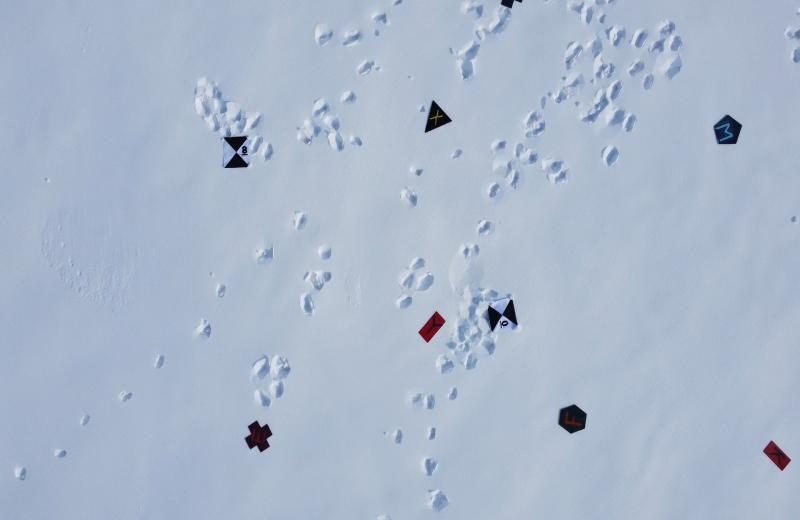Cross: (242, 418, 274, 460)
Hexagon: (557, 400, 589, 440)
Pentagon: (710, 110, 744, 150)
Rectangle: (414, 308, 452, 346), (764, 438, 793, 477)
Triangle: (422, 98, 453, 136)
